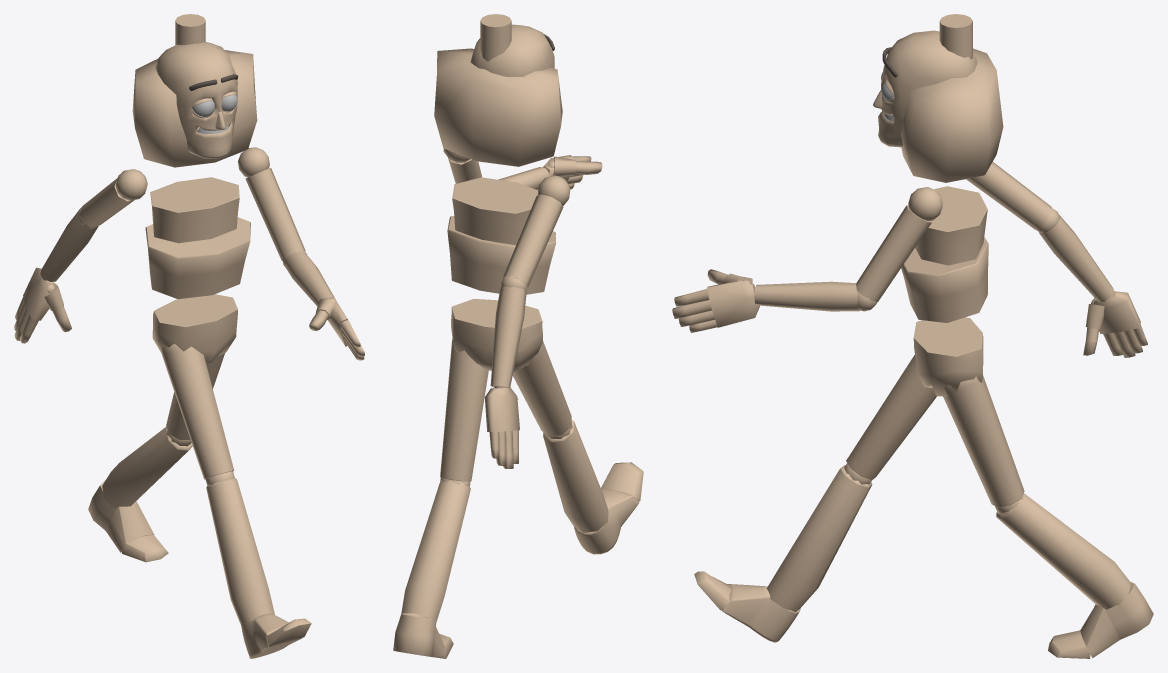
Rendered from Max WalkCycle V30.fbx.
3 renders of one model, left to right at view 1: azimuth 30°, elevation 25°; view 2: azimuth 150°, elevation 25°; view 3: azimuth 270°, elevation 25°, orthographic. The views are drawn at different scales.
Visible parts, largest first — view 1: dummyTorso_Geo, head_Geo, dummySpine2_Geo, dummyLowerLegR_Geo, dummyUpperLegR_Geo, dummySpine1_Geo, dummyHip_Geo, dummyLowerLegL_Geo, dummyOverArmL_Geo, dummyOverArmR_Geo, dummyAnkleL_Geo, dummyUnderArmR_Geo (+7 smaller); view 2: dummyTorso_Geo, dummyLowerLegL_Geo, dummyUpperLegL_Geo, dummySpine1_Geo, dummyLowerLegR_Geo, dummySpine2_Geo, dummyHip_Geo, dummyOverArmR_Geo, dummyUpperLegR_Geo, dummyUnderArmR_Geo, head_Geo, dummyAnkleR_Geo (+7 smaller); view 3: dummyTorso_Geo, dummyLowerLegR_Geo, dummyLowerLegL_Geo, dummyUpperLegL_Geo, head_Geo, dummySpine2_Geo, dummyUpperLegR_Geo, dummyHip_Geo, dummySpine1_Geo, dummyOverArmL_Geo, dummyUnderArmL_Geo, dummyAnkleL_Geo (+8 smaller).
Part boxes in pixels (<box>): dummyTorso_Geo: <box>132,50,257,167</box>; head_Geo: <box>155,42,237,158</box>; dummySpine2_Geo: <box>145,217,250,299</box>; dummyLowerLegR_Geo: <box>206,477,274,624</box>; dummyUpperLegR_Geo: <box>161,344,234,485</box>; dummySpine1_Geo: <box>150,177,239,243</box>; dummyHip_Geo: <box>152,294,237,363</box>; dummyLowerLegL_Geo: <box>102,427,192,508</box>; dummyOverArmL_Geo: <box>238,147,305,261</box>; dummyOverArmR_Geo: <box>79,169,147,227</box>; dummyAnkleL_Geo: <box>88,480,154,552</box>; dummyUnderArmR_Geo: <box>40,207,98,281</box>; dummyTorso_Geo: <box>434,48,562,166</box>; dummyLowerLegL_Geo: <box>401,479,470,622</box>; dummyUpperLegL_Geo: <box>440,338,488,486</box>; dummySpine1_Geo: <box>452,177,538,244</box>; dummyLowerLegR_Geo: <box>543,420,608,532</box>; dummySpine2_Geo: <box>447,216,556,294</box>; dummyHip_Geo: <box>451,299,542,371</box>; dummyOverArmR_Geo: <box>503,175,570,287</box>; dummyUpperLegR_Geo: <box>512,341,572,438</box>; dummyUnderArmR_Geo: <box>490,276,527,388</box>; head_Geo: <box>470,24,554,76</box>; dummyAnkleR_Geo: <box>574,488,639,554</box>; dummyTorso_Geo: <box>901,48,1003,182</box>; dummyLowerLegR_Geo: <box>767,465,872,611</box>; dummyLowerLegL_Geo: <box>996,493,1130,609</box>; dummyUpperLegL_Geo: <box>943,375,1024,514</box>; head_Geo: <box>878,30,977,147</box>; dummySpine2_Geo: <box>901,237,988,322</box>; dummyUpperLegR_Geo: <box>844,354,936,484</box>; dummyHip_Geo: <box>913,317,983,396</box>; dummySpine1_Geo: <box>915,186,987,265</box>; dummyOverArmL_Geo: <box>856,187,942,302</box>; dummyUnderArmL_Geo: <box>754,281,876,311</box>; dummyAnkleL_Geo: <box>1080,582,1153,657</box>.
Bounding box in the file's own units: 57.86 × 188 × 131.
